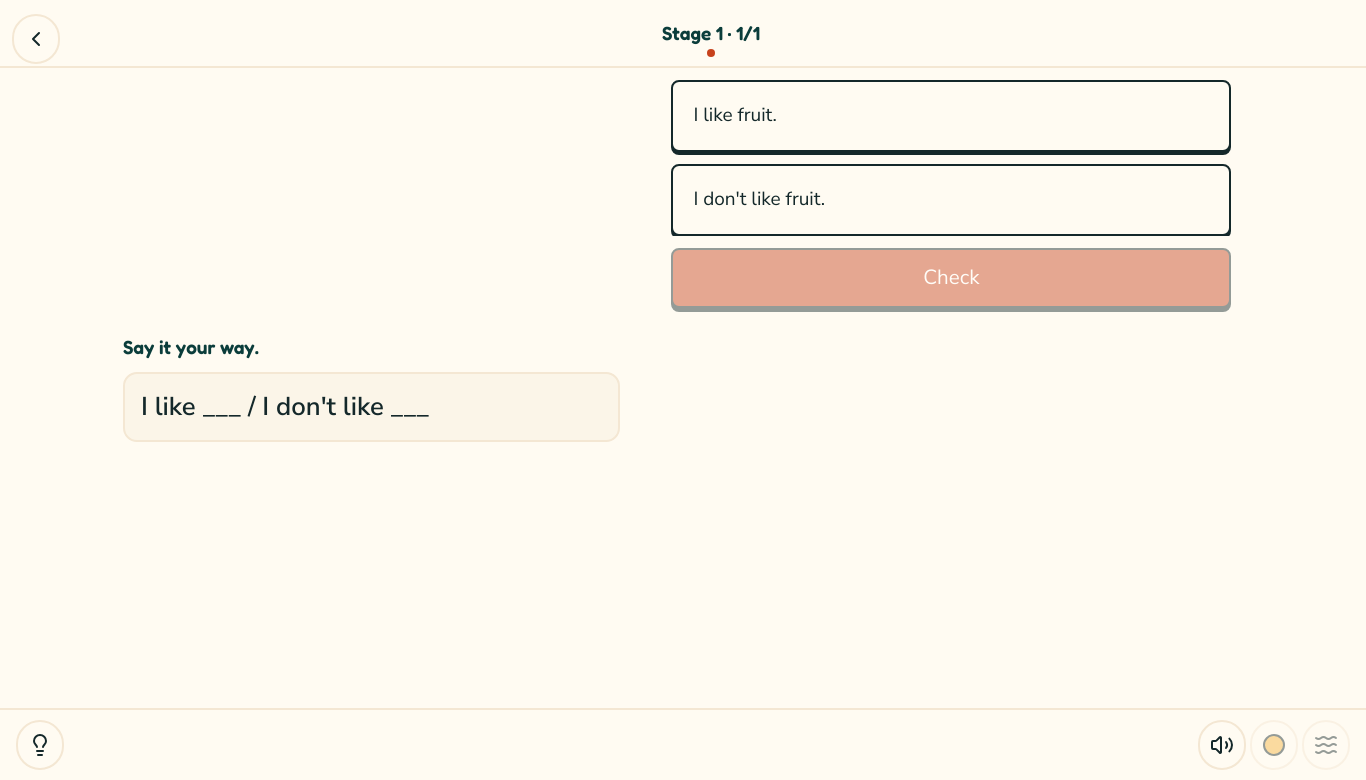
answer flow › accepts either personal answer, speaks and displays it, and gives five XP
Click the button "I don't like fruit.". click: [759, 199]
box: [671,164,1231,236]
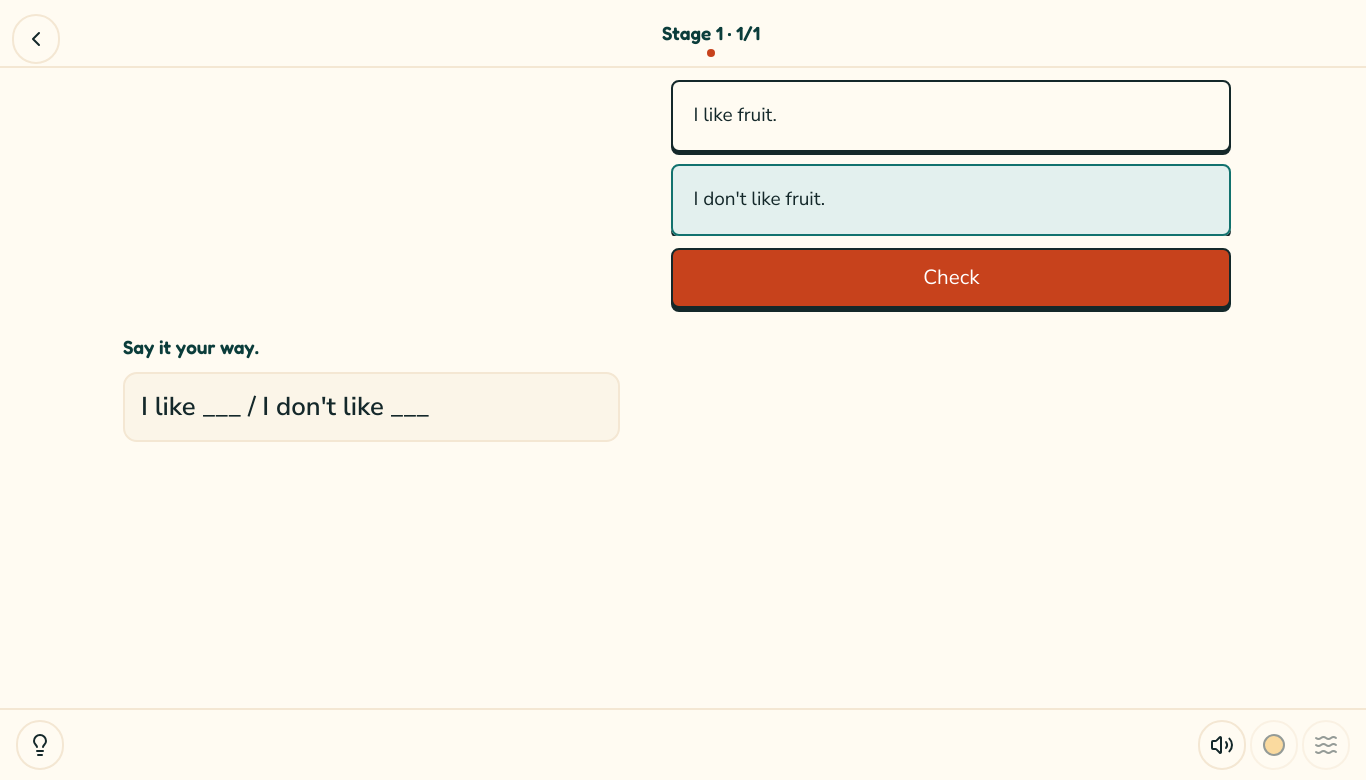
Click the button "Check". click: [951, 278]
box: [671,248,1231,308]
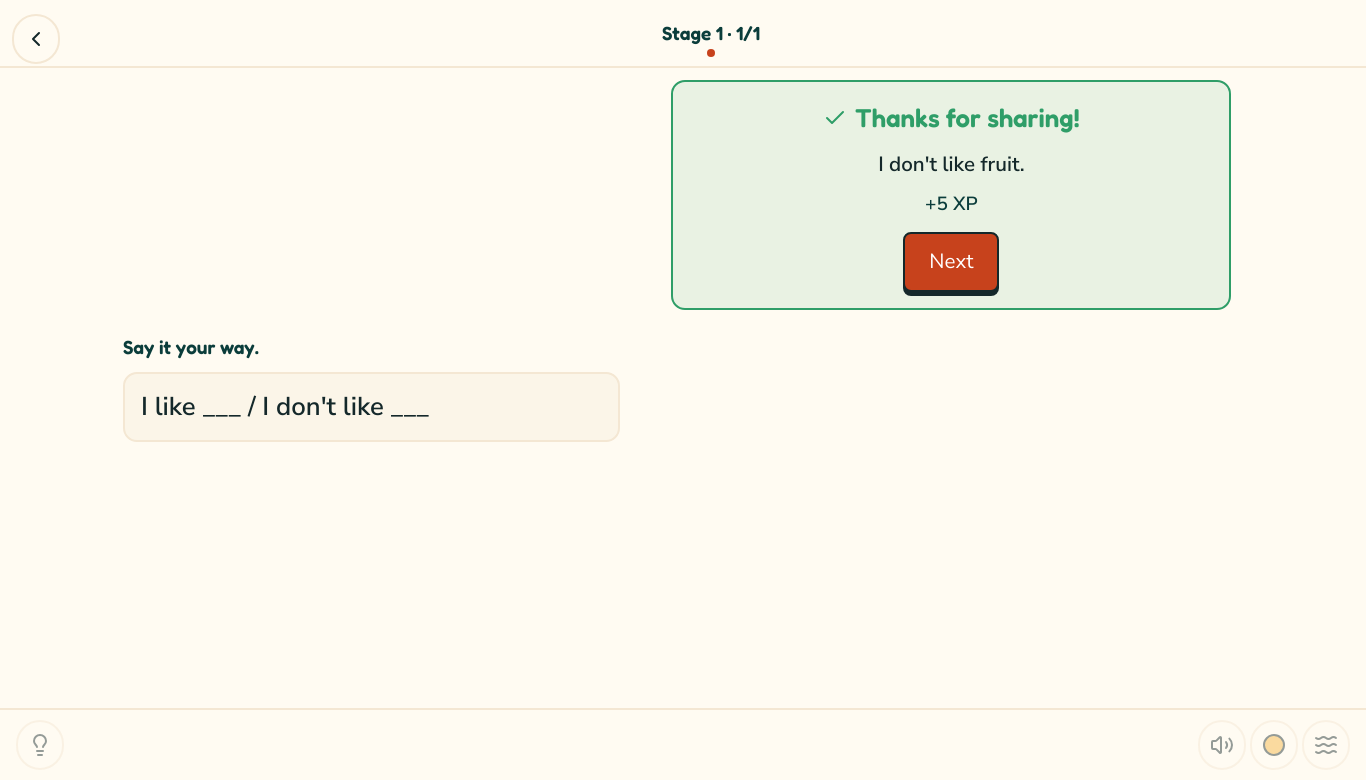
Result: the element named "Answer feedback" shows "Thanks for sharing!" at [855,102,1080,133]
Result: the element named "Answer feedback" shows "I don't like fruit." at [878,150,1025,178]
Result: the element named "Answer feedback" shows "+5 XP" at [925,191,978,217]
